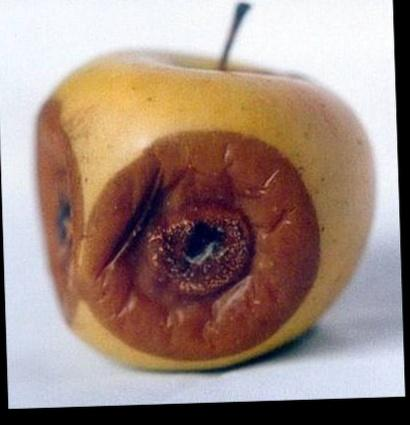rotten apple: (20, 50, 384, 378)
